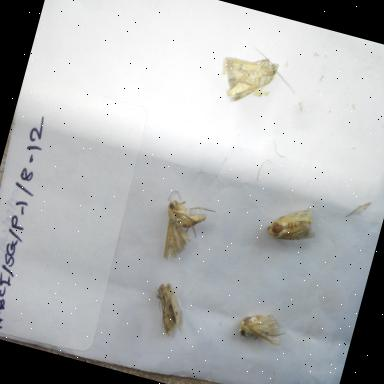abw: (210, 34, 309, 122), (149, 183, 223, 274), (140, 274, 200, 348), (258, 190, 324, 256), (228, 298, 296, 358)
